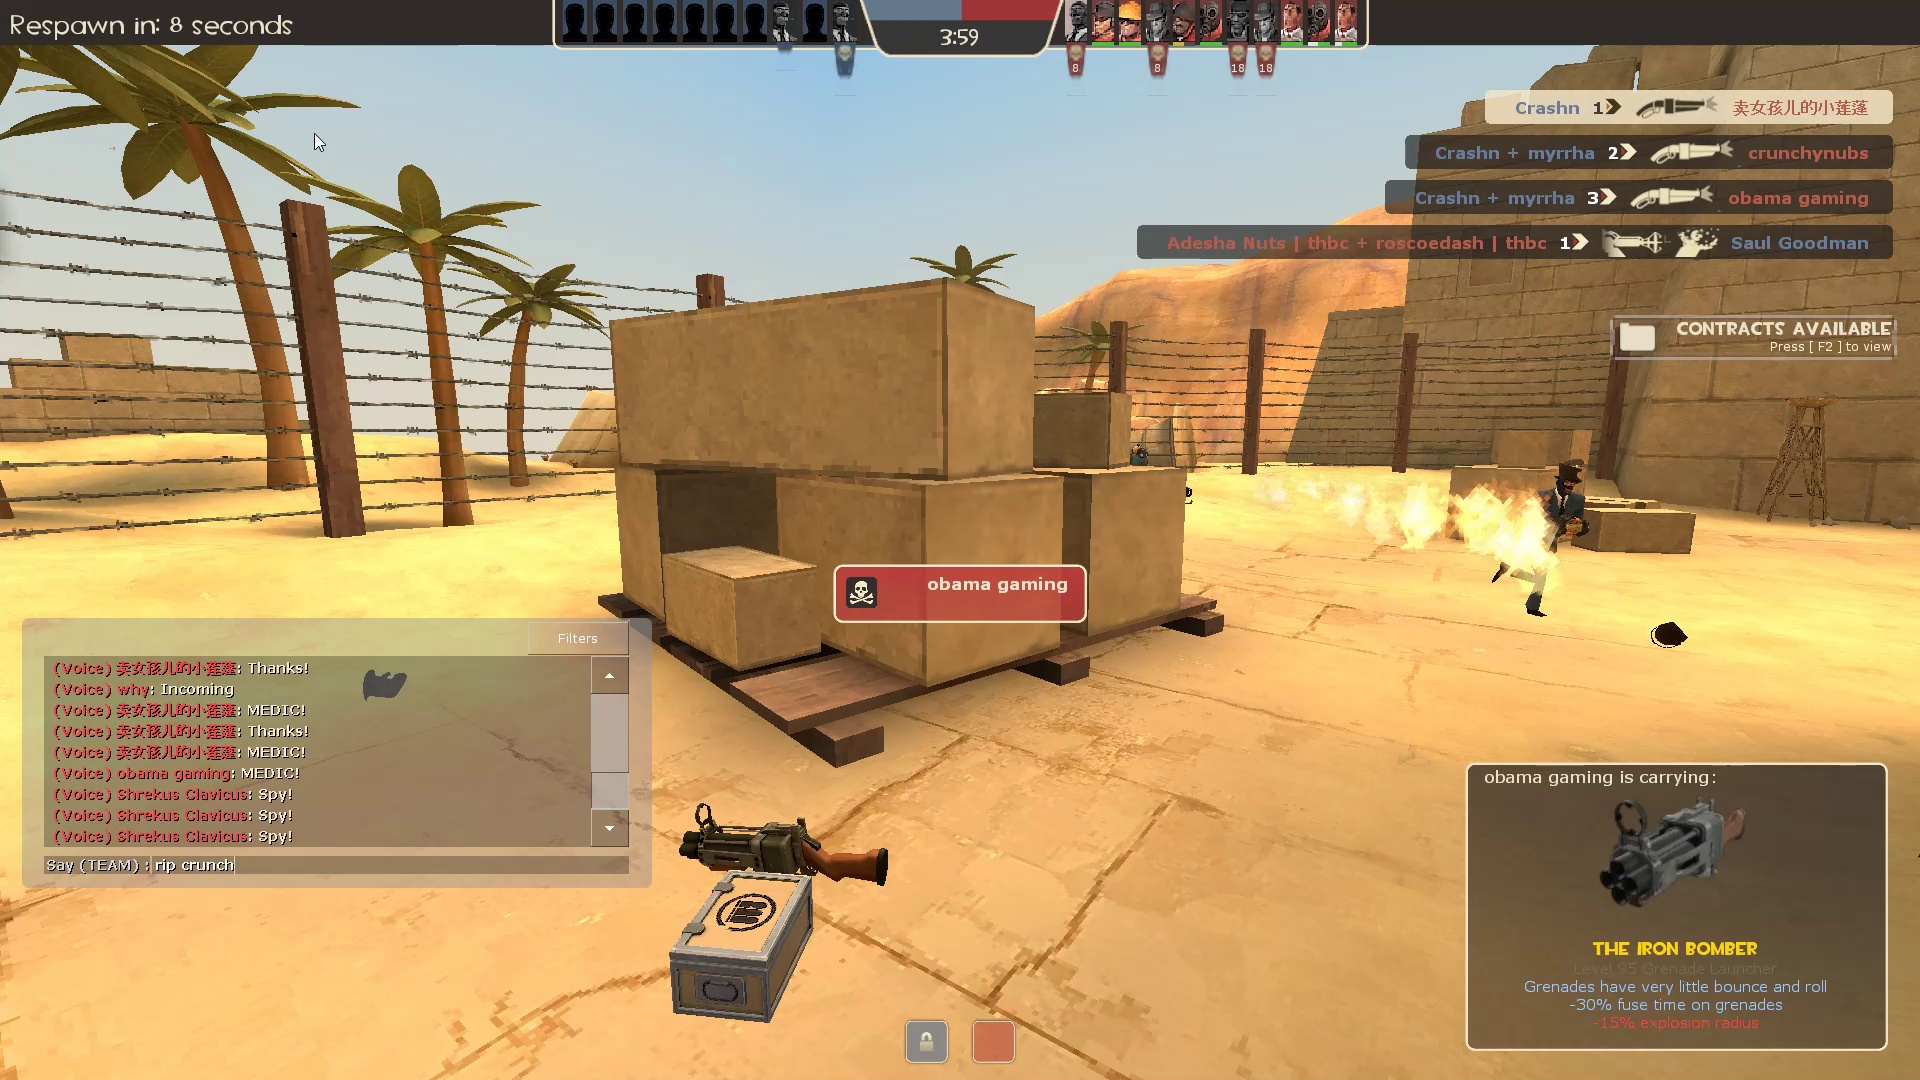blu_spy: (1484, 454, 1594, 626)
